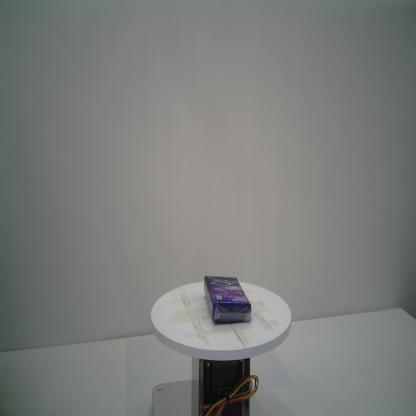Gum: (204, 276, 252, 324)
